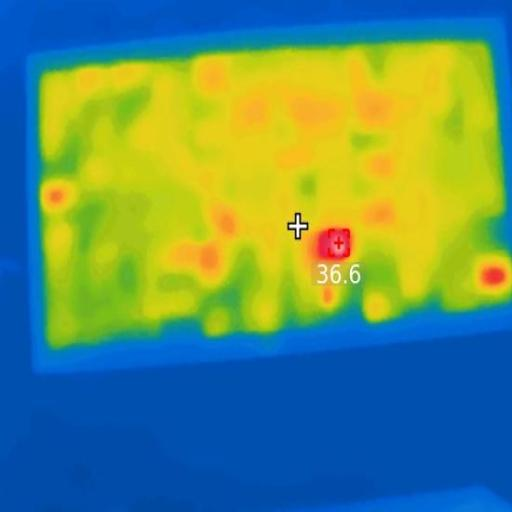hotspot: (318, 227, 350, 258)
